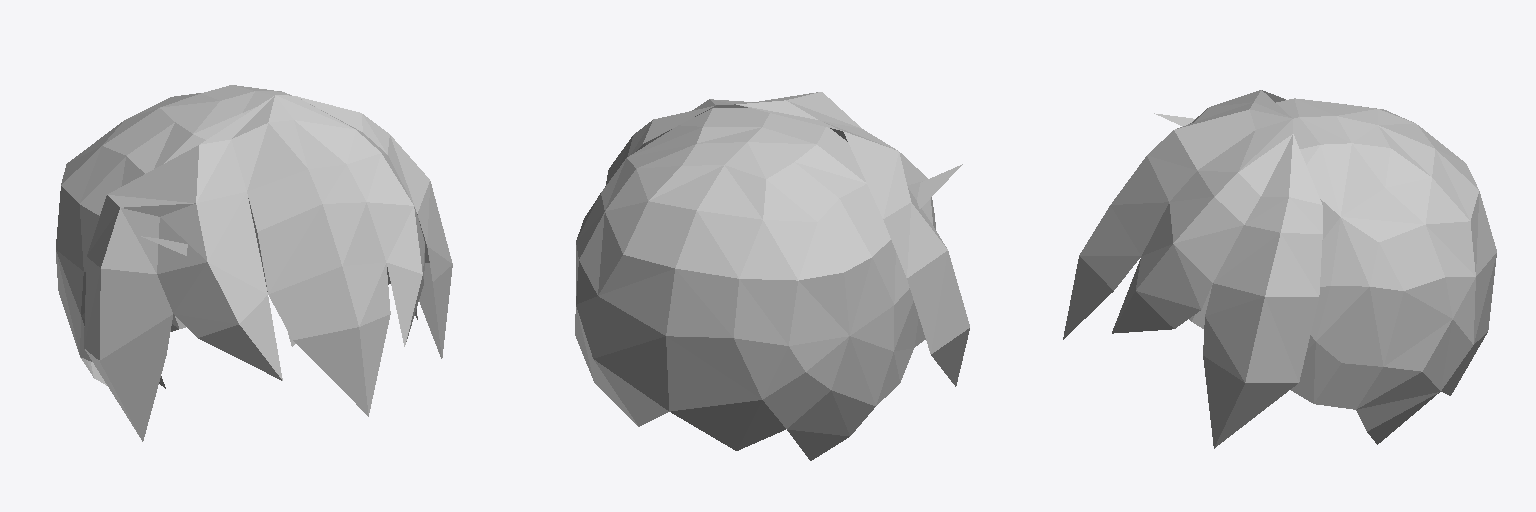
The model's file is head.obj.
3 renders of one model, left to right at view 1: azimuth 30°, elevation 25°; view 2: azimuth 150°, elevation 25°; view 3: azimuth 270°, elevation 25°, orthographic.
Parts seen in each view (by area): view 1: model459.004; view 2: model459.004; view 3: model459.004.
Part boxes in pixels (x1,y1,x2,y2): model459.004: (56, 85, 452, 441); model459.004: (575, 92, 969, 460); model459.004: (1063, 90, 1496, 448).
Size of the model in its own units: 3.64 by 2.91 by 3.82.